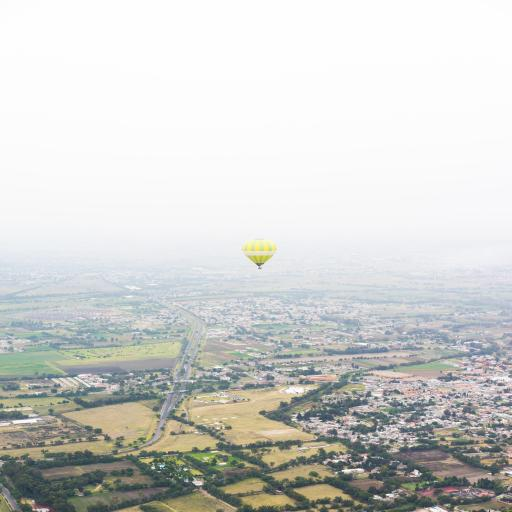hot air ballon: (238, 234, 283, 272)
